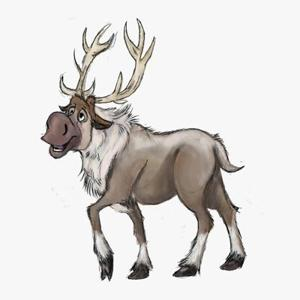sven: (37, 15, 254, 281)
